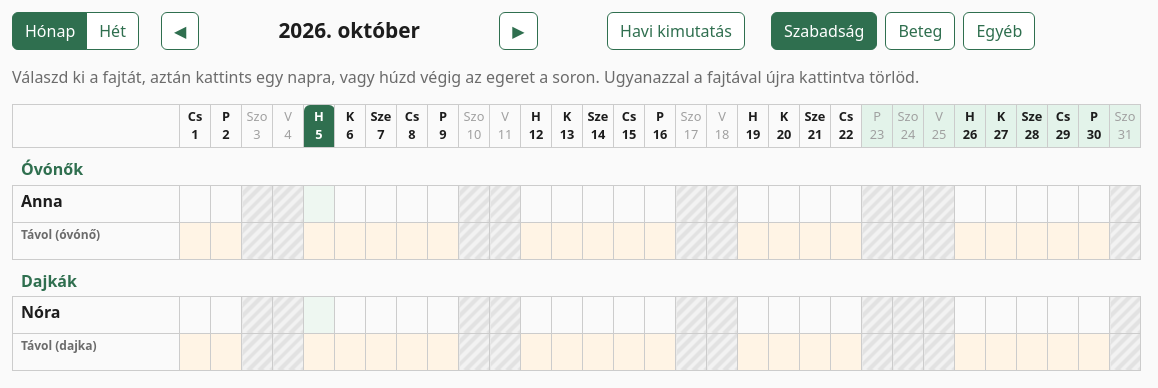
Test: AbsenceScreen at a glance › jumps back to the current month, offered only away from it
Expected: the button "Ma" is not shown
Click the button named "Következő hónap" at point(518, 31), box 499,12 -> 538,50
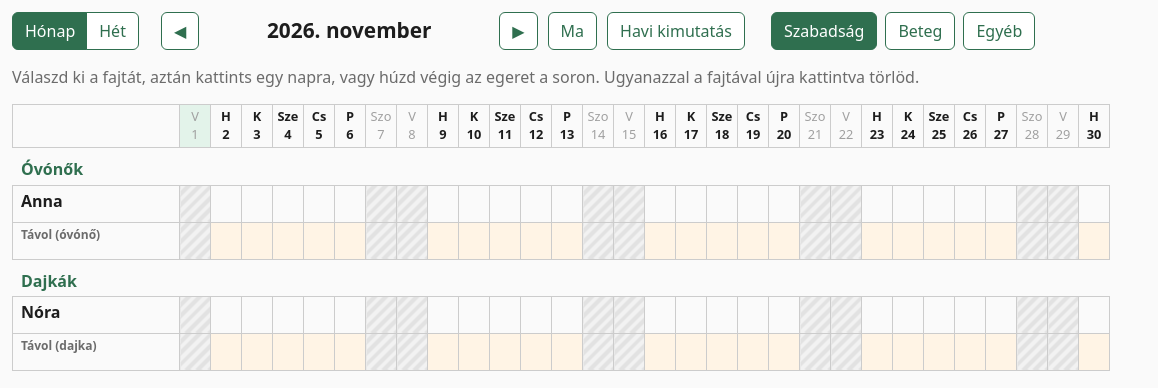
Click the button named "Következő hónap" at point(518, 31), box 499,12 -> 538,50
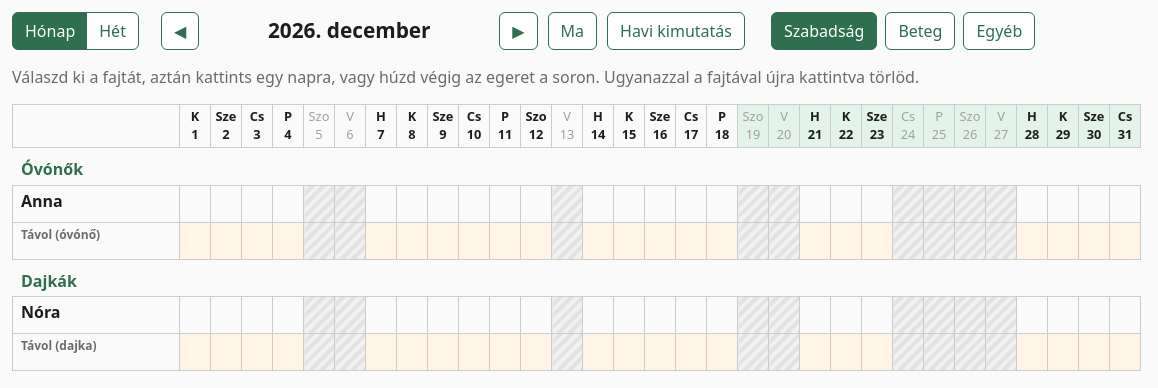
Result: the heading "2026. december" is shown at 268,16 -> 431,44
Click the button "Ma" at point(572, 31), box 548,12 -> 597,50
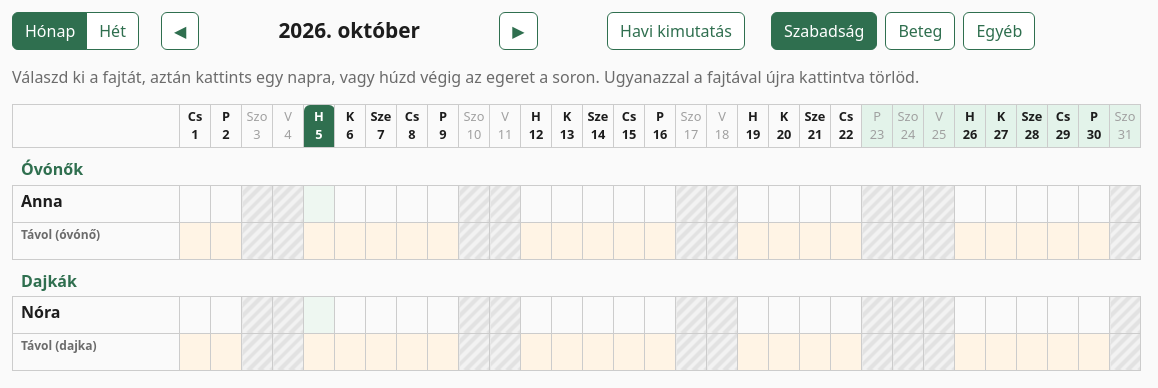
Result: the heading "2026. október" is shown at 278,16 -> 420,44
